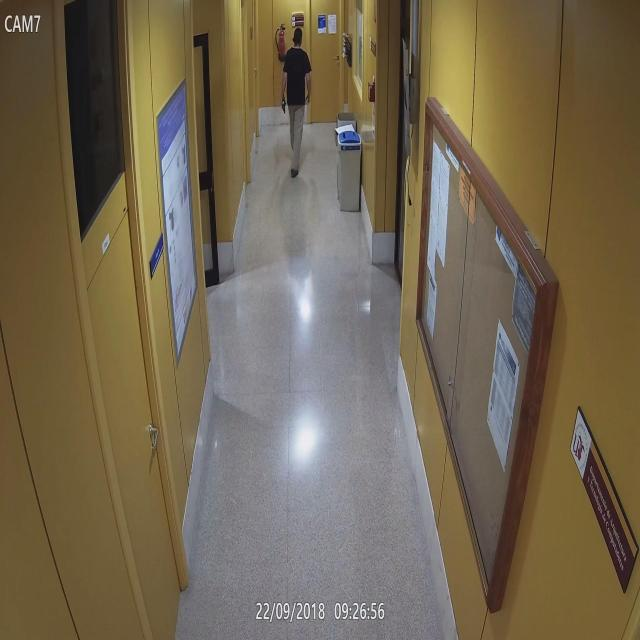pistol: (277, 93, 287, 122)
